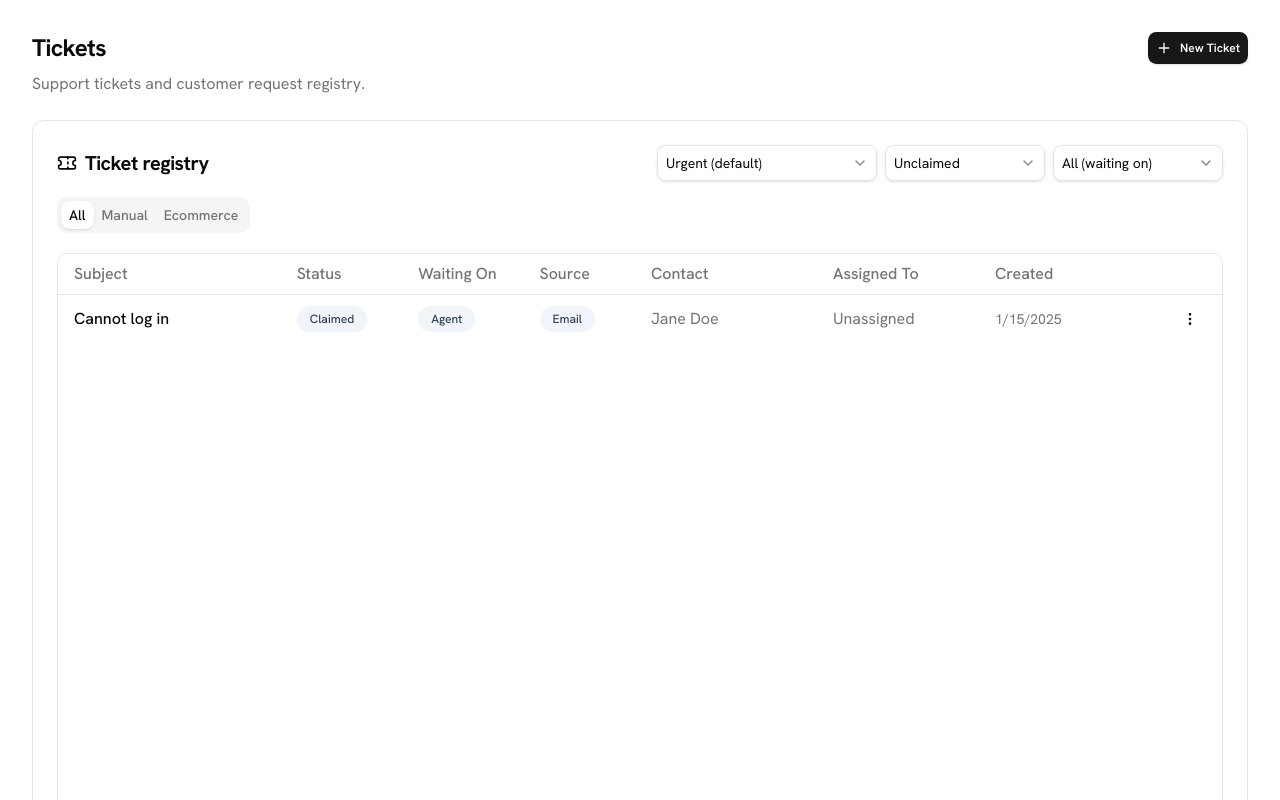
Test: TicketListPage › shows a Cancel button on a non-terminal row and gates it behind a confirmation dialog
The width and height of the screenshot is (1280, 800).
Click the button named "More options": x=1190, y=318 [1174,302,1206,334]
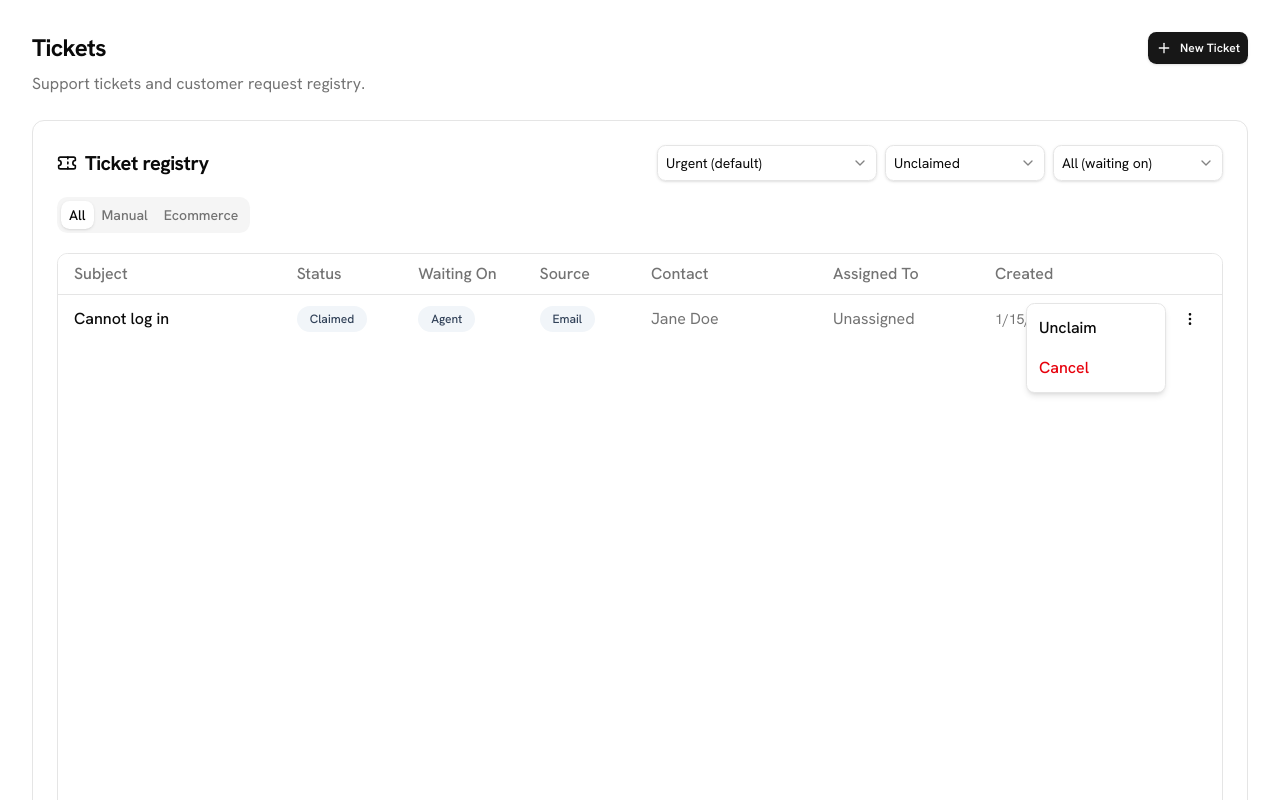
Click the menu item "Cancel": x=1064, y=368 [1039,357,1089,378]
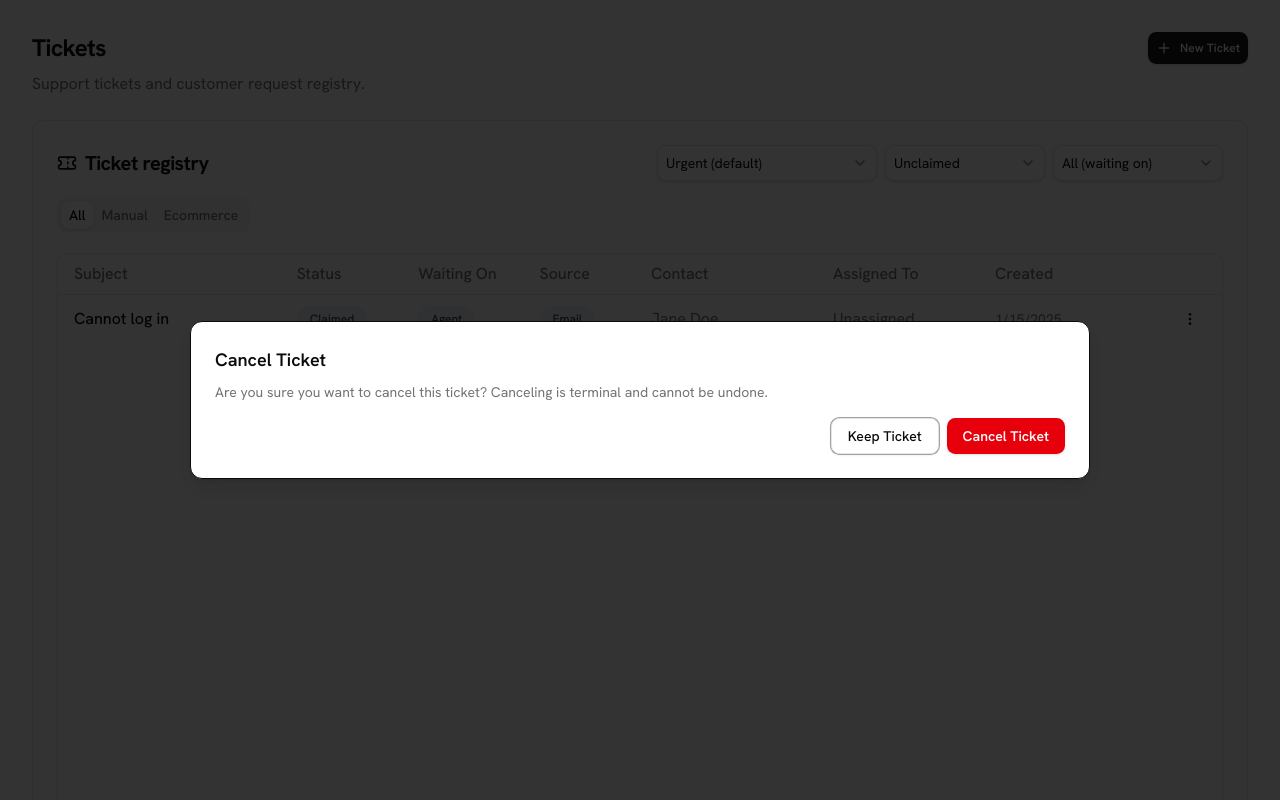
// Confirm inside the dialog.
Click the button "Cancel Ticket": x=1006, y=436 [947,418,1065,454]
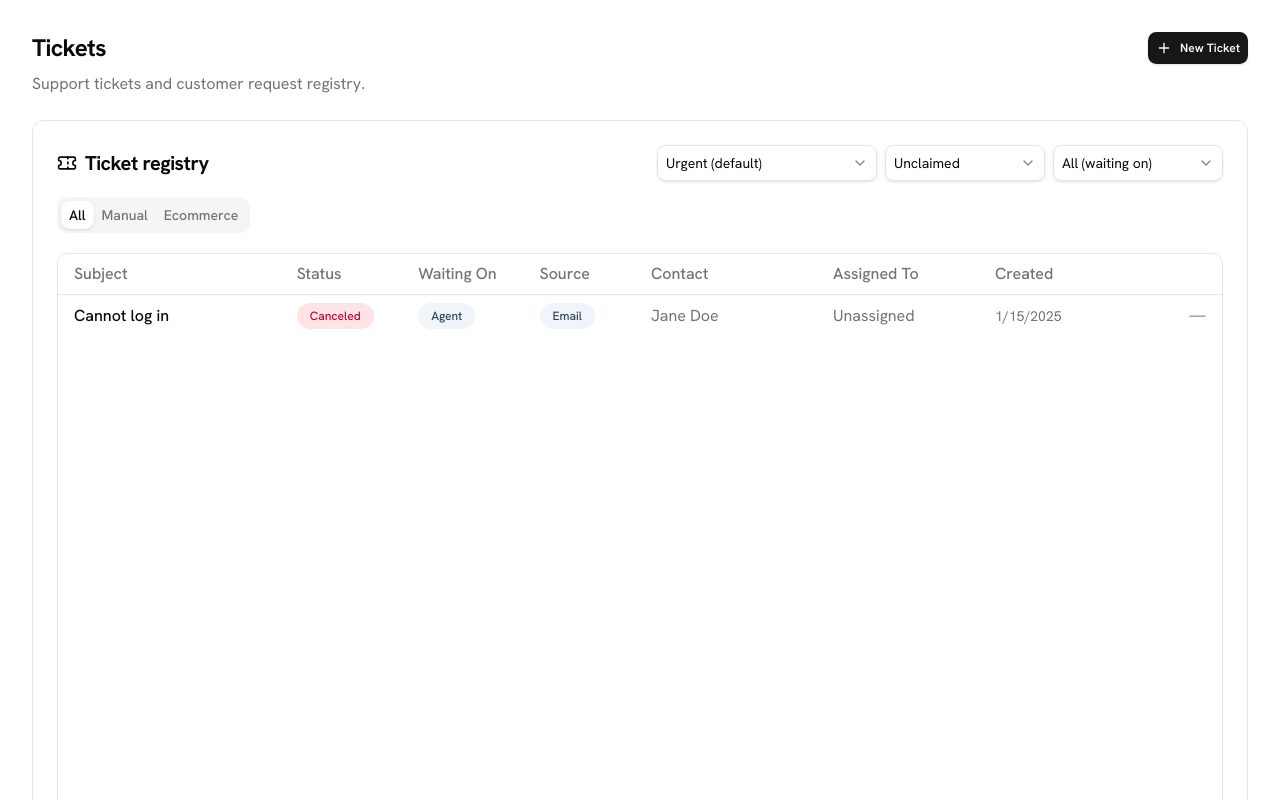
Result: the text "Canceled" is shown at [297,302,374,328]
